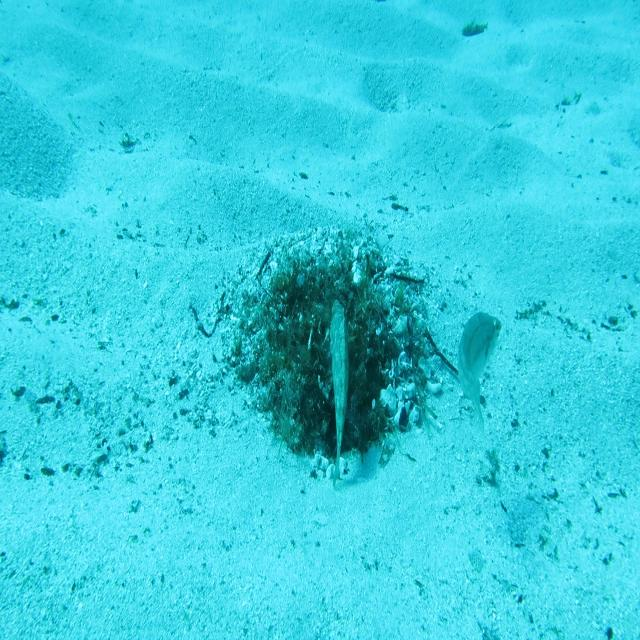FAN: (315, 298, 361, 492)
core_nest: (300, 280, 354, 312)
female: (454, 310, 502, 438)
nest: (214, 216, 456, 490)
vegetation: (462, 22, 490, 36)
